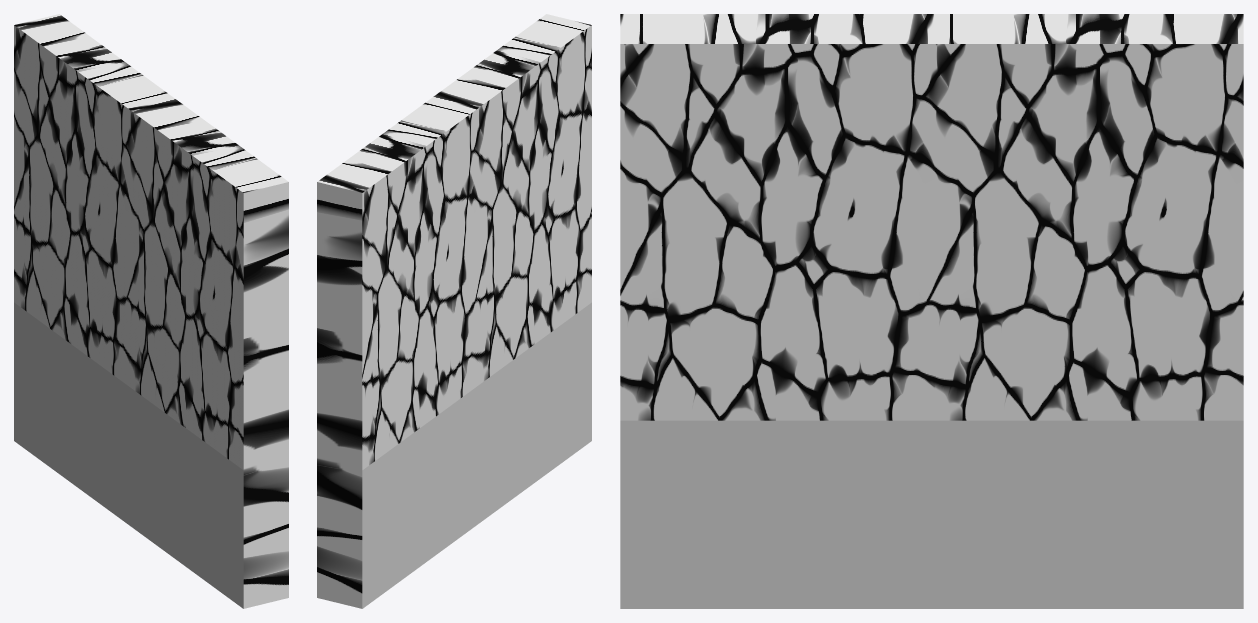
Rendered from SM_Wall_3x3.fbx.
3 renders of one model, left to right at view 1: azimuth 30°, elevation 25°; view 2: azimuth 150°, elevation 25°; view 3: azimuth 270°, elevation 25°, orthographic. The views are drawn at different scales.
Visible parts, largest first — view 1: polySurface1; view 2: polySurface1; view 3: polySurface1.
Boxes of the visible parts, x1,y1,x2,y2 form: polySurface1: (14, 14, 288, 608); polySurface1: (317, 14, 591, 608); polySurface1: (620, 14, 1243, 608).
Size of the model in its own units: 0.343 by 3 by 3.
